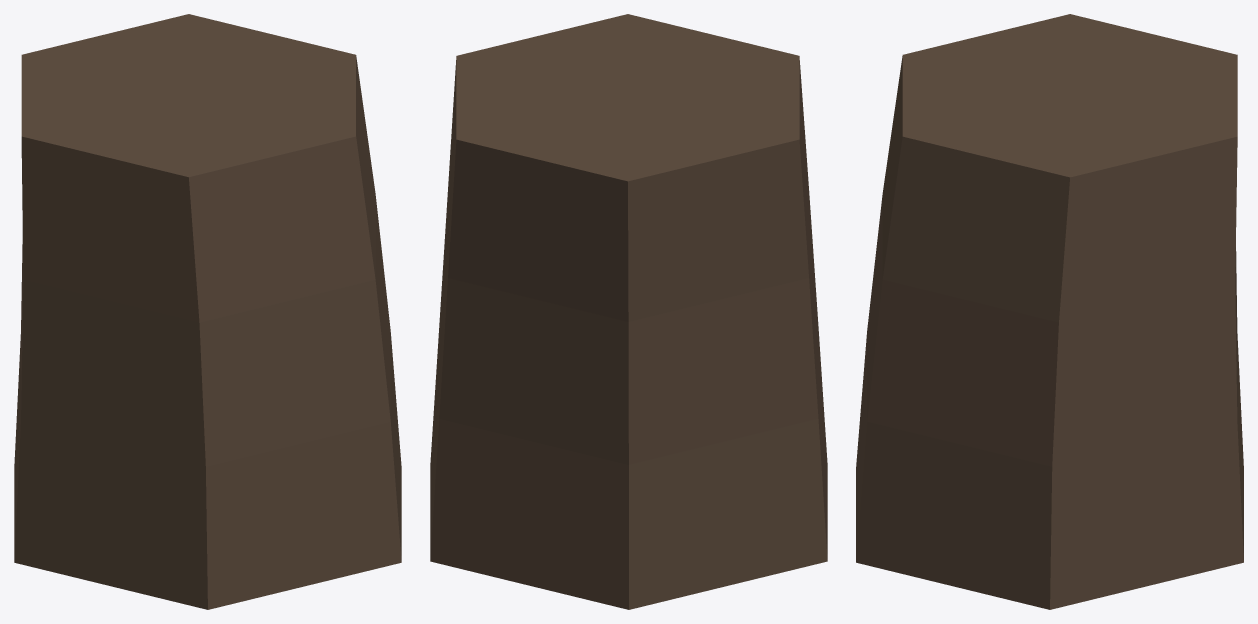
The model's file is tree_stump.glb.
3 views of the same model, side by side, from view 1: azimuth 30°, elevation 25°; view 2: azimuth 150°, elevation 25°; view 3: azimuth 270°, elevation 25° (orthographic). The views are drawn at different scales.
Parts seen in each view (by area): view 1: tree_stump; view 2: tree_stump; view 3: tree_stump.
Part boxes in pixels (left/top/right/bottom): tree_stump: left=14, top=14, right=401, bottom=609; tree_stump: left=430, top=14, right=827, bottom=609; tree_stump: left=856, top=14, right=1243, bottom=609.
Size of the model in its own units: 0.44 by 0.45 by 0.3811.
1 material, 1 textured.
